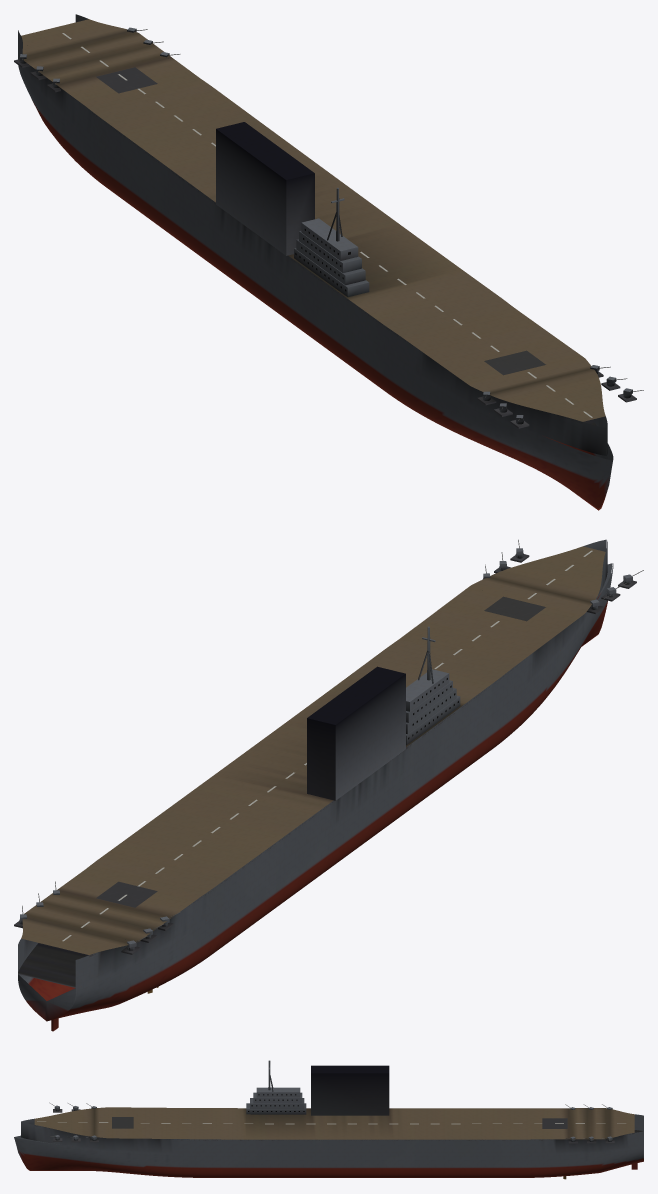
The model's file is model_built.glb.
3 renders of one model, top to bottom at view 1: azimuth 30°, elevation 25°; view 2: azimuth 150°, elevation 25°; view 3: azimuth 270°, elevation 25°, orthographic. The views are drawn at different scales.
Parts seen in each view (by area): view 1: main; view 2: main; view 3: main.
Part boxes in pixels (x1,y1,x2,y2): main: (14,14,643,510); main: (14,539,643,1031); main: (14,1060,643,1179).
Bounding box in the file's own units: 35.11 × 46.94 × 274.
Materials: 1 (1 with a texture image).
